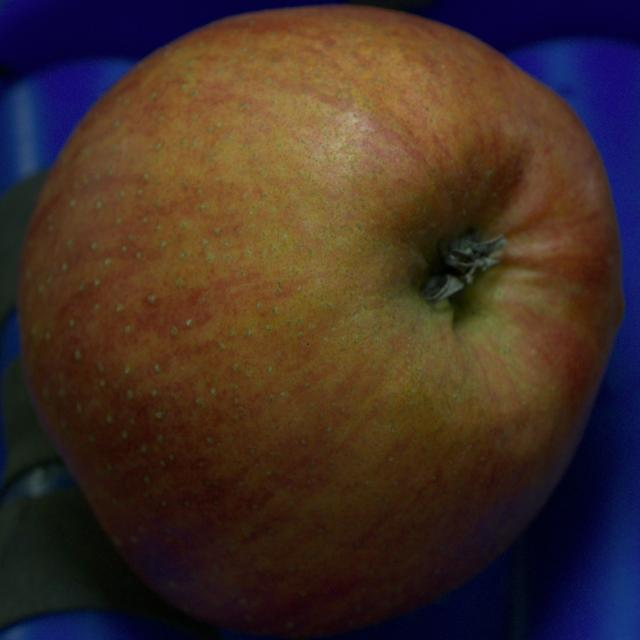apple: (18, 6, 622, 636)
